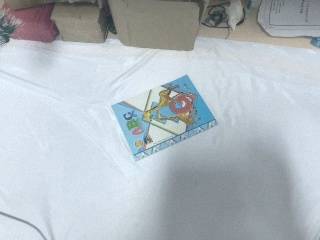book: (110, 71, 220, 164)
box: (106, 1, 203, 51), (52, 1, 109, 43)
